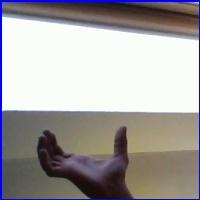space: (28, 125, 156, 198)
